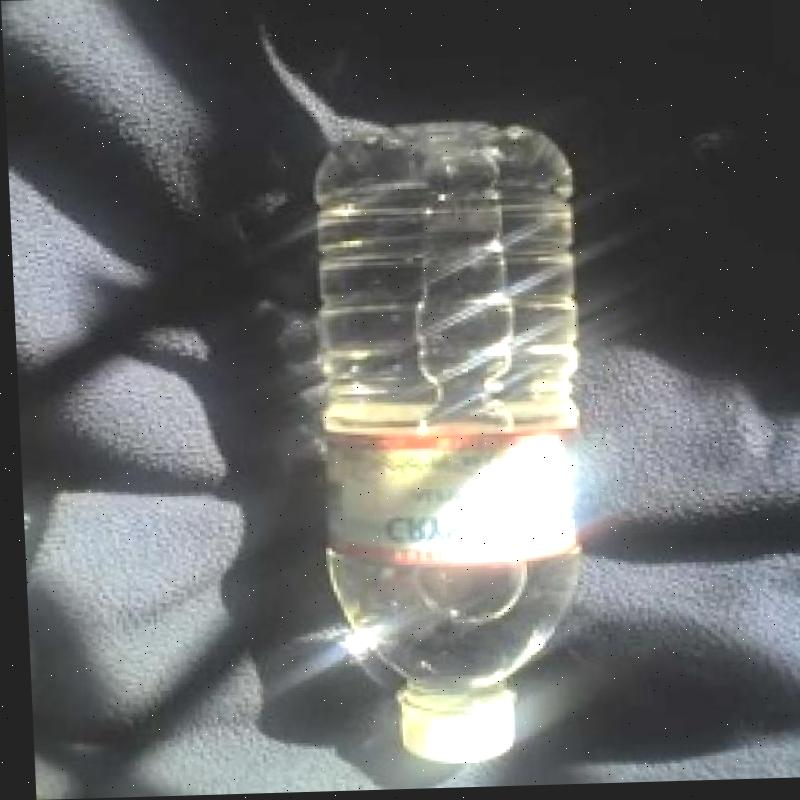botella: (301, 123, 593, 767)
